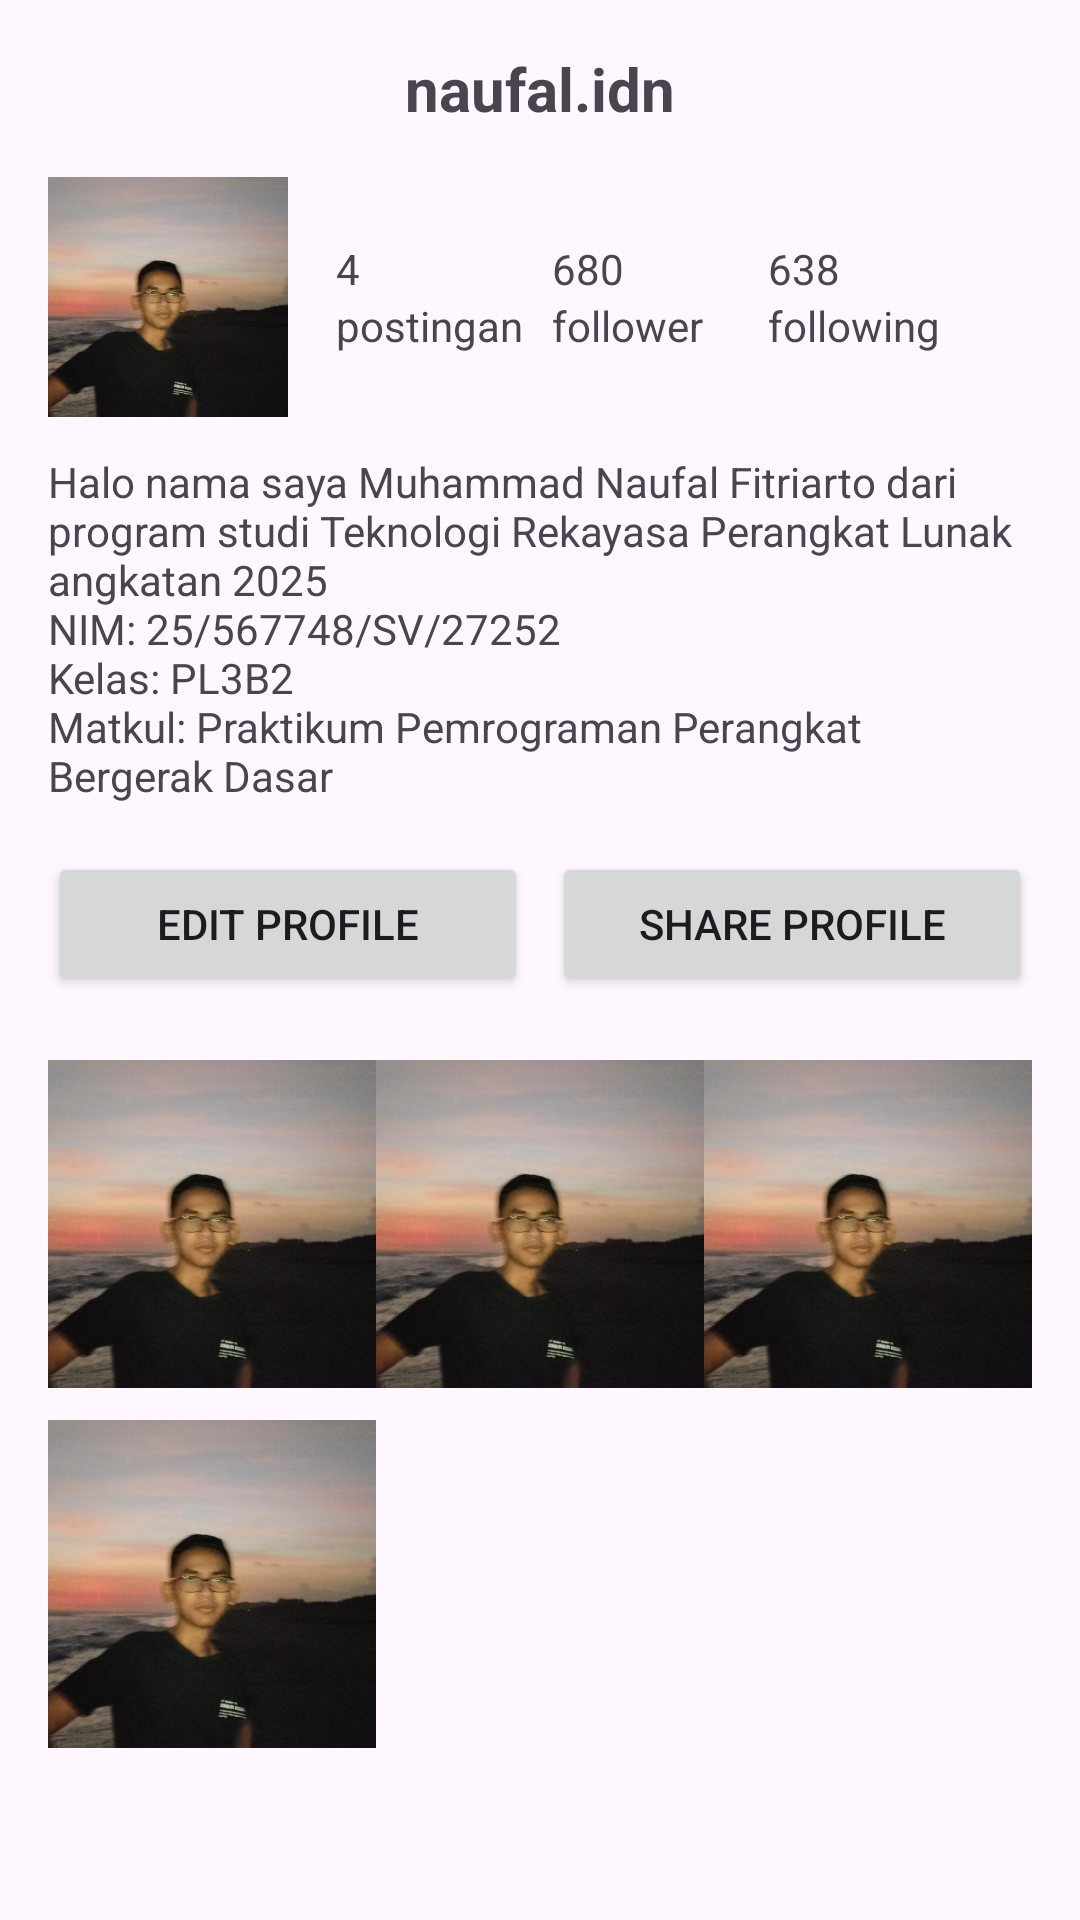

Locate icon controls on the screen. Image size 1080×1920, boxes as box=[x1, y1, x2, y2].
profile picture: box=[48, 177, 288, 417]
